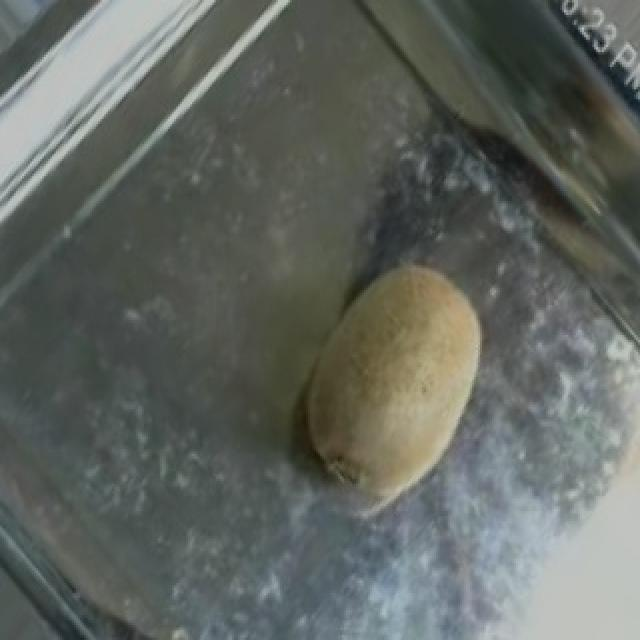Fruit: (268, 233, 514, 519)
